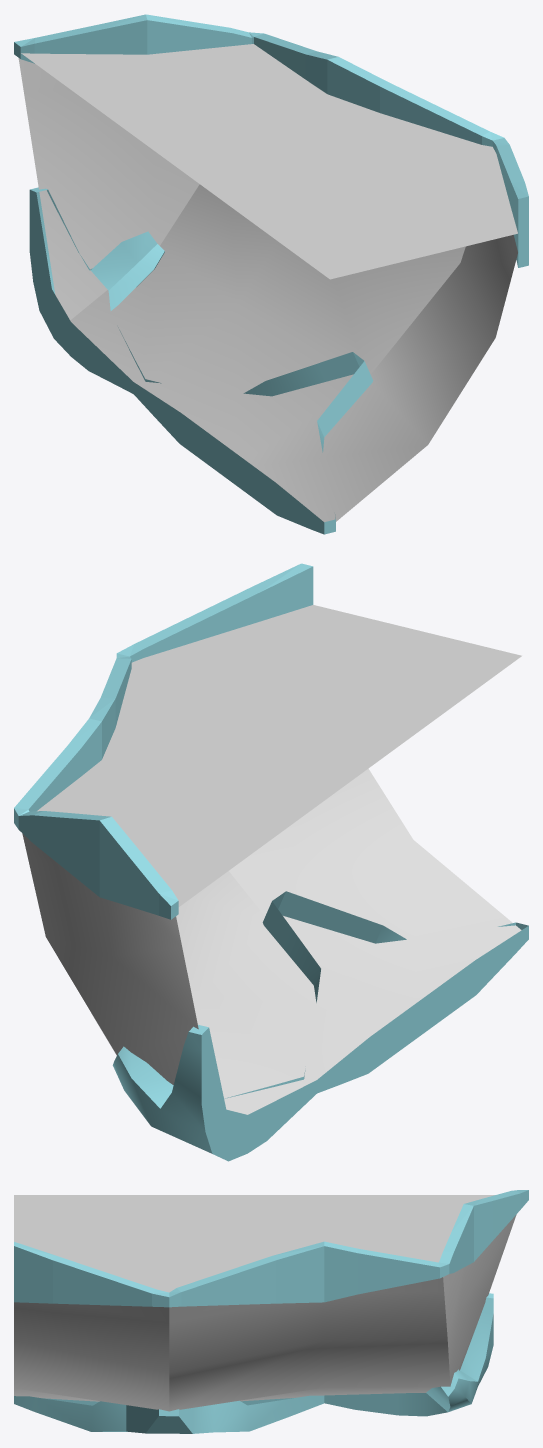
The model's file is BalconyAwning_end.fbx.
3 renders of one model, top to bottom at view 1: azimuth 30°, elevation 25°; view 2: azimuth 150°, elevation 25°; view 3: azimuth 270°, elevation 25°, orthographic. The views are drawn at different scales.
Parts seen in each view (by area): view 1: Balcony/Awning_end; view 2: Balcony/Awning_end; view 3: Balcony/Awning_end.
Boxes of the visible parts, x1=… form: Balcony/Awning_end: x1=14, y1=14, x2=528, y2=534; Balcony/Awning_end: x1=14, y1=563, x2=528, y2=1161; Balcony/Awning_end: x1=14, y1=1190, x2=528, y2=1433.
Bounding box in the file's own units: 11.69 × 12.31 × 23.22.
